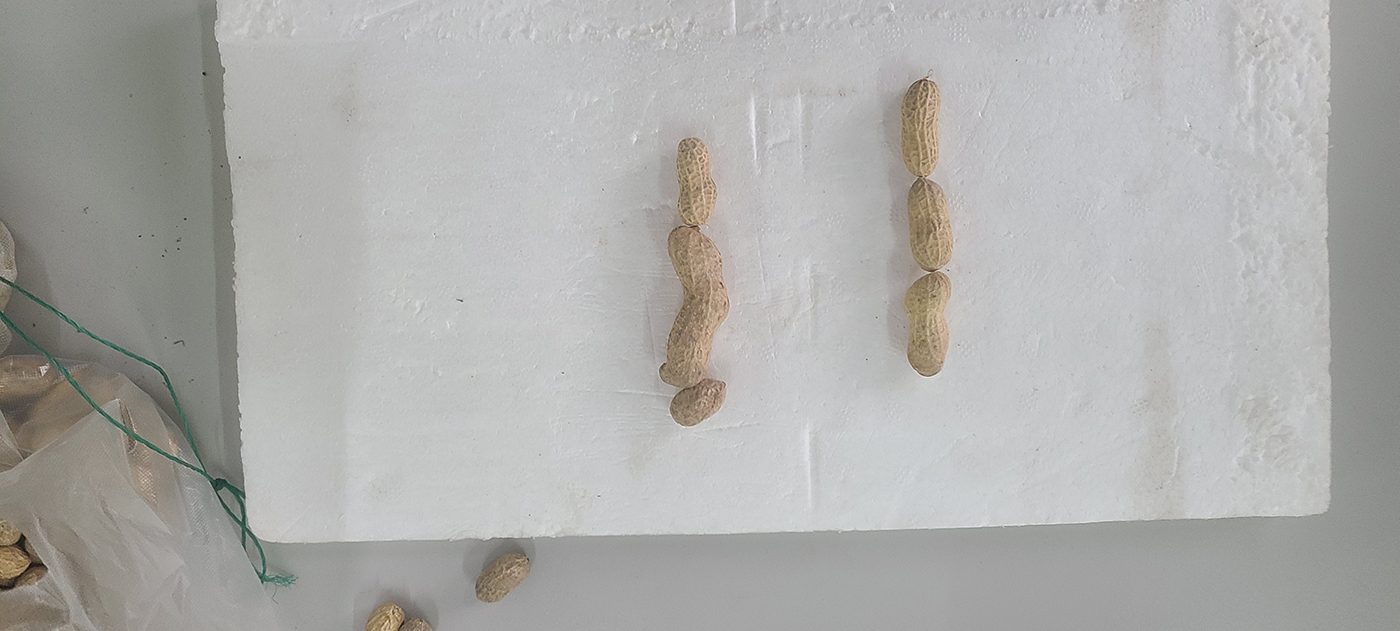h: (660, 227, 731, 389), (905, 272, 954, 377), (909, 177, 954, 271), (674, 135, 717, 227), (902, 79, 941, 176), (364, 604, 406, 631)
l: (670, 377, 726, 427), (476, 552, 530, 603)
